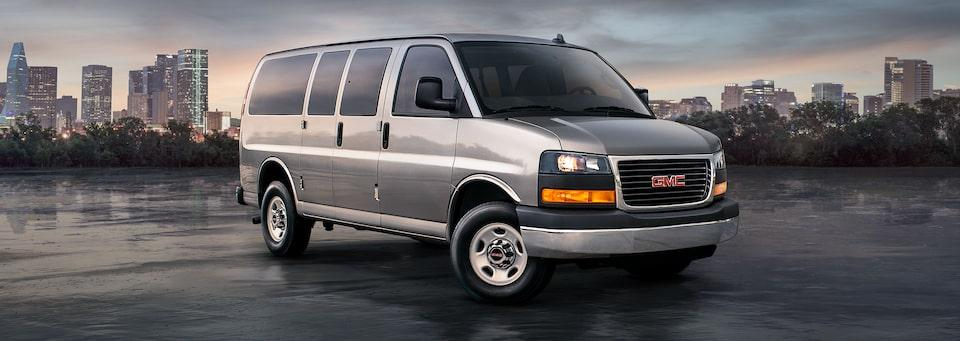van: (235, 34, 739, 306)
